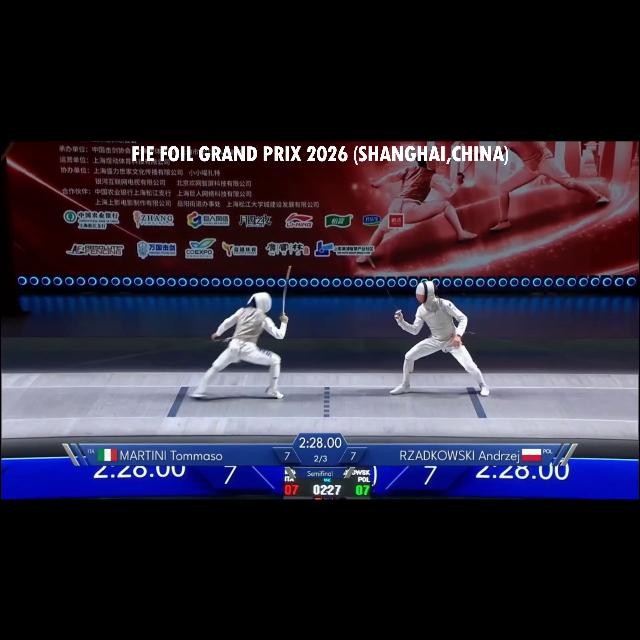blade: (358, 252, 409, 322), (278, 260, 298, 324)
